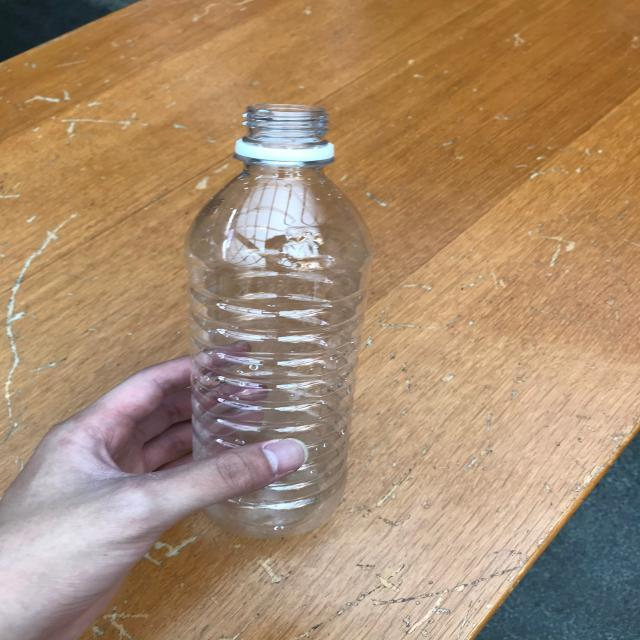plastic_bottle: (185, 104, 374, 537)
